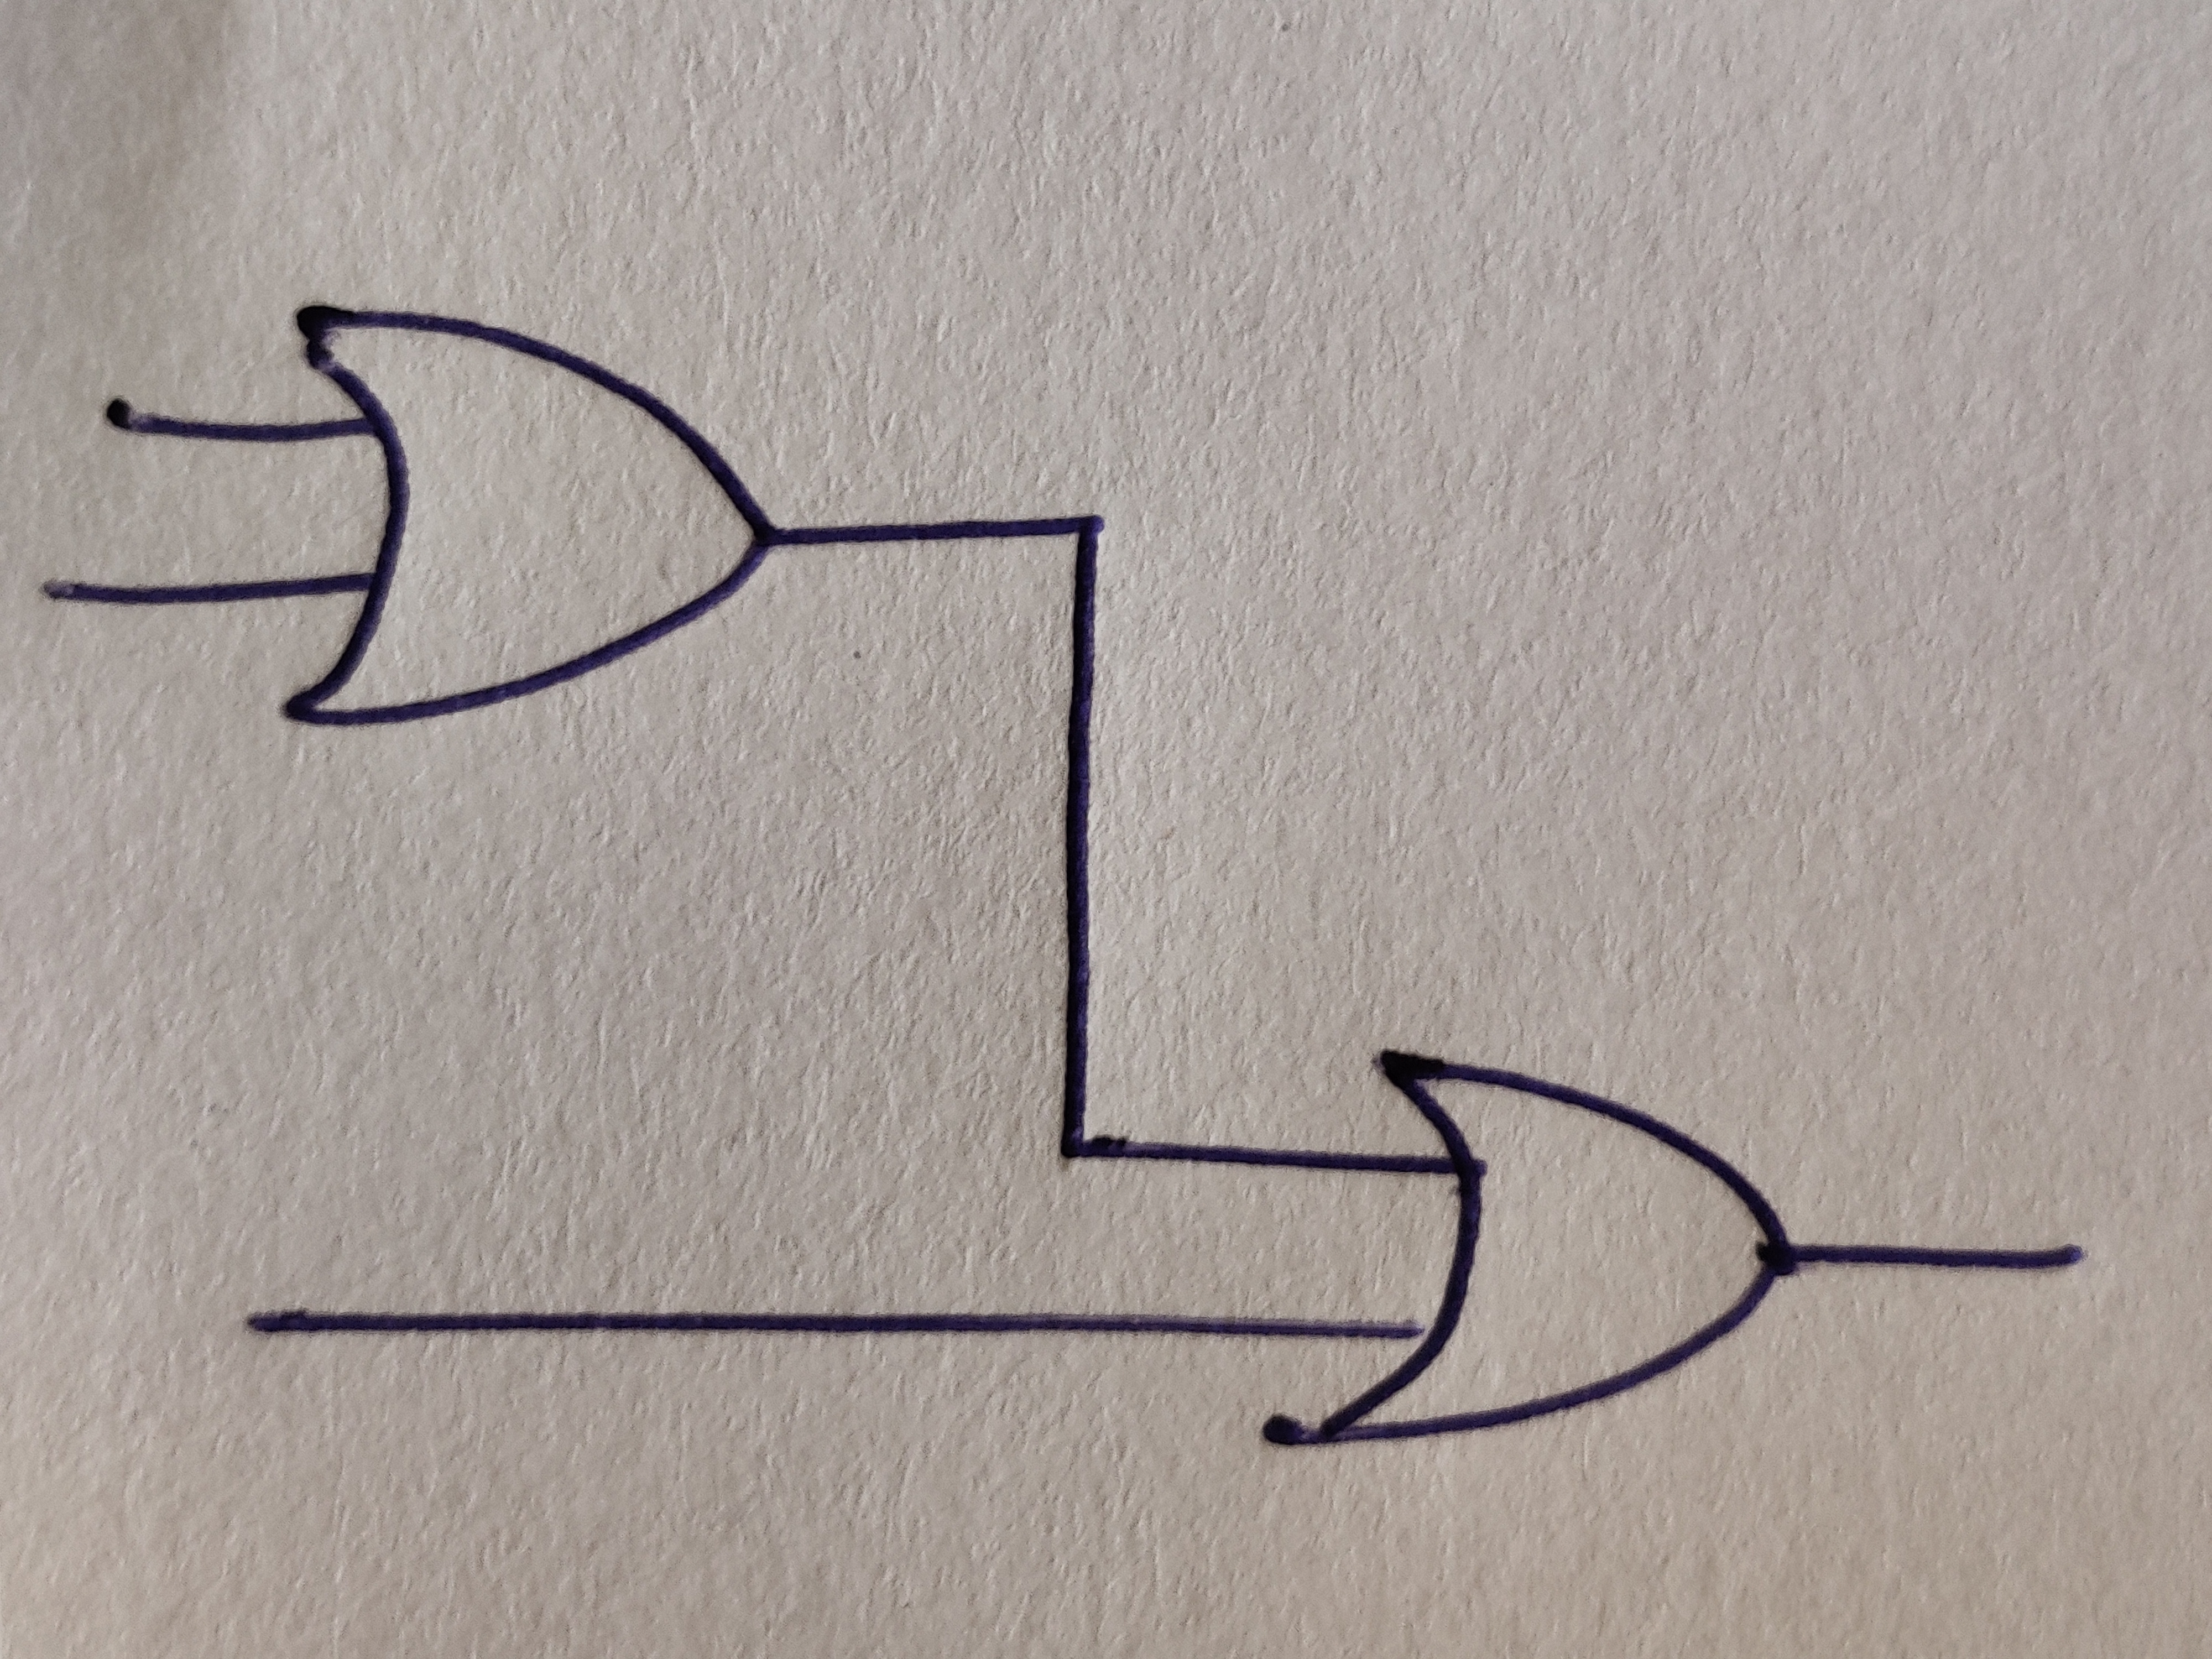or: (282, 301, 775, 728), (1263, 1049, 1787, 1448)
